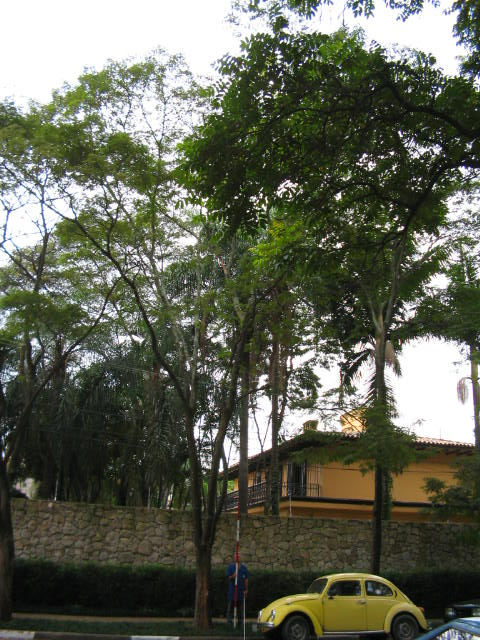stem: (178, 538, 223, 629)
stick: (224, 501, 253, 629)
tree: (16, 55, 309, 631)
